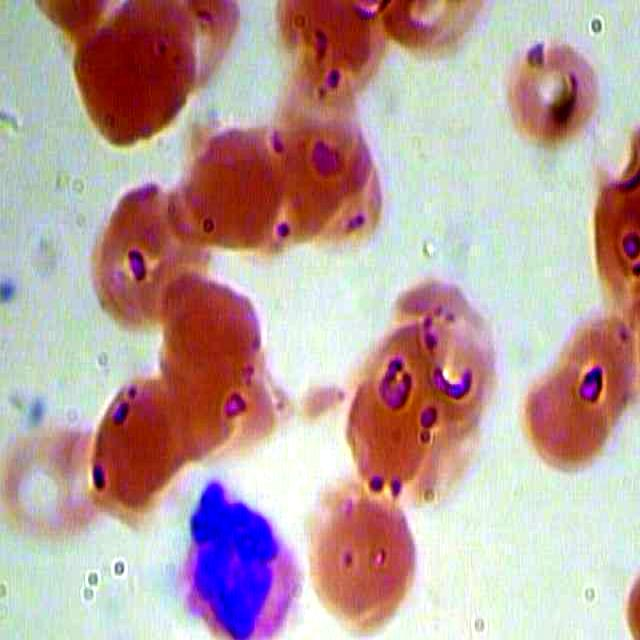RBC: (83, 171, 207, 337), (300, 487, 427, 632), (487, 23, 614, 168), (69, 11, 193, 145), (82, 374, 191, 526), (509, 336, 618, 488), (181, 121, 286, 255), (160, 267, 265, 400)
WBC: (173, 477, 306, 640)
